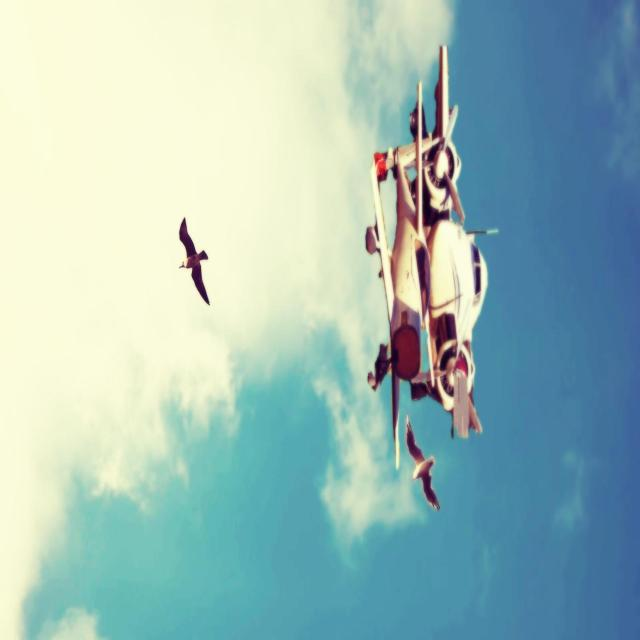airplane: (364, 43, 498, 471)
